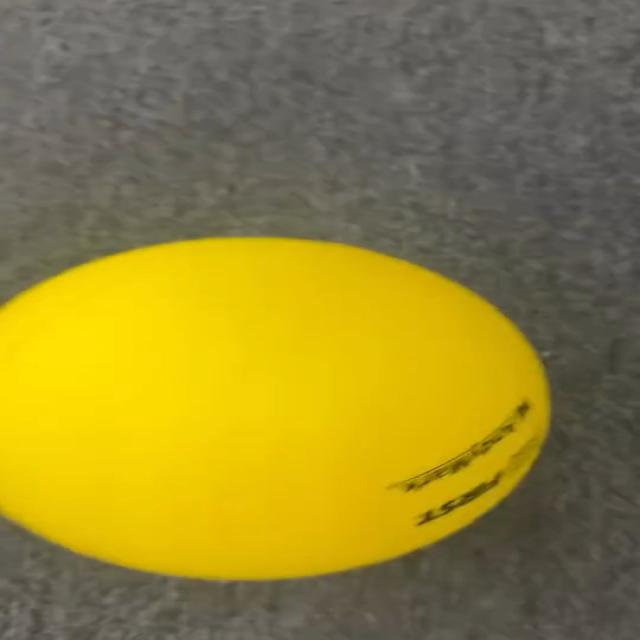Fuels: (4, 238, 549, 576)
